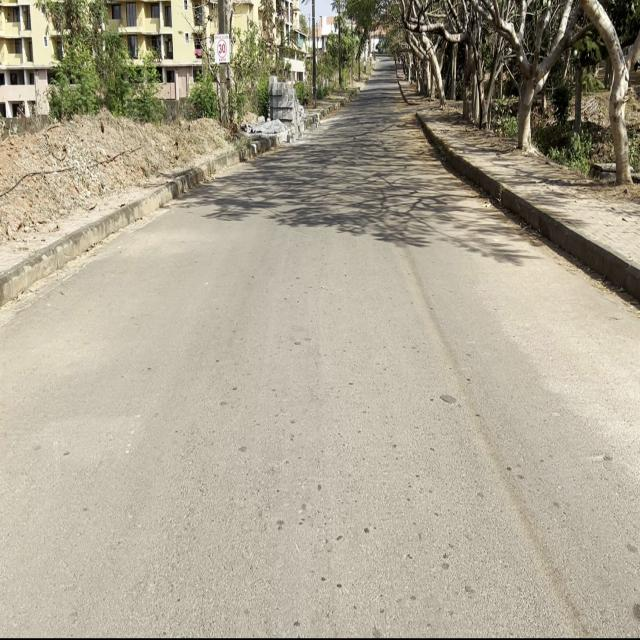Road: (0, 64, 640, 640)
